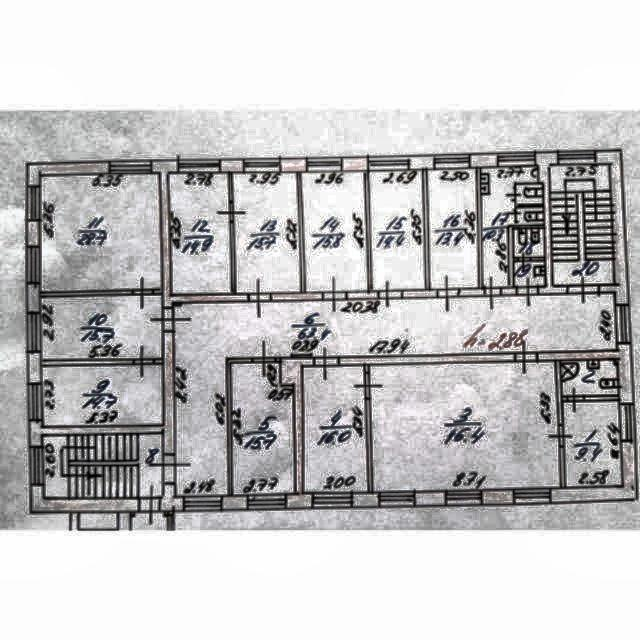room: (172, 294, 618, 496), (370, 361, 561, 491), (38, 173, 162, 291), (232, 170, 301, 295), (230, 361, 294, 494), (302, 366, 368, 493), (548, 163, 613, 286), (41, 295, 163, 360), (302, 171, 367, 292), (169, 172, 231, 295), (44, 435, 162, 498), (42, 366, 162, 425), (481, 167, 539, 287), (369, 170, 425, 291), (427, 169, 479, 289), (563, 400, 621, 487), (561, 361, 618, 396), (514, 229, 544, 257), (514, 261, 544, 286), (516, 184, 542, 203), (517, 208, 543, 224)
